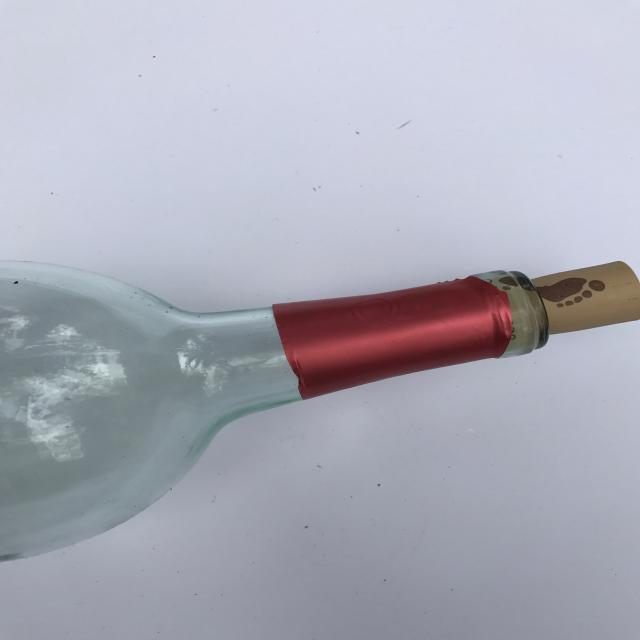glass: (0, 257, 640, 563)
